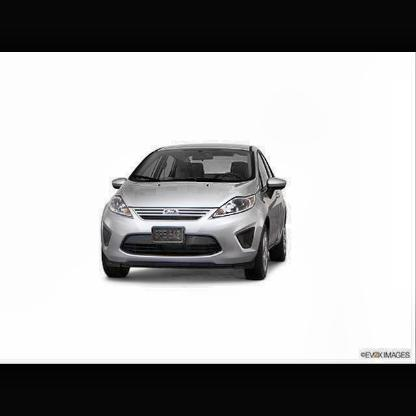Ford Fiesta Sedan 2012: (100, 144, 289, 283)
